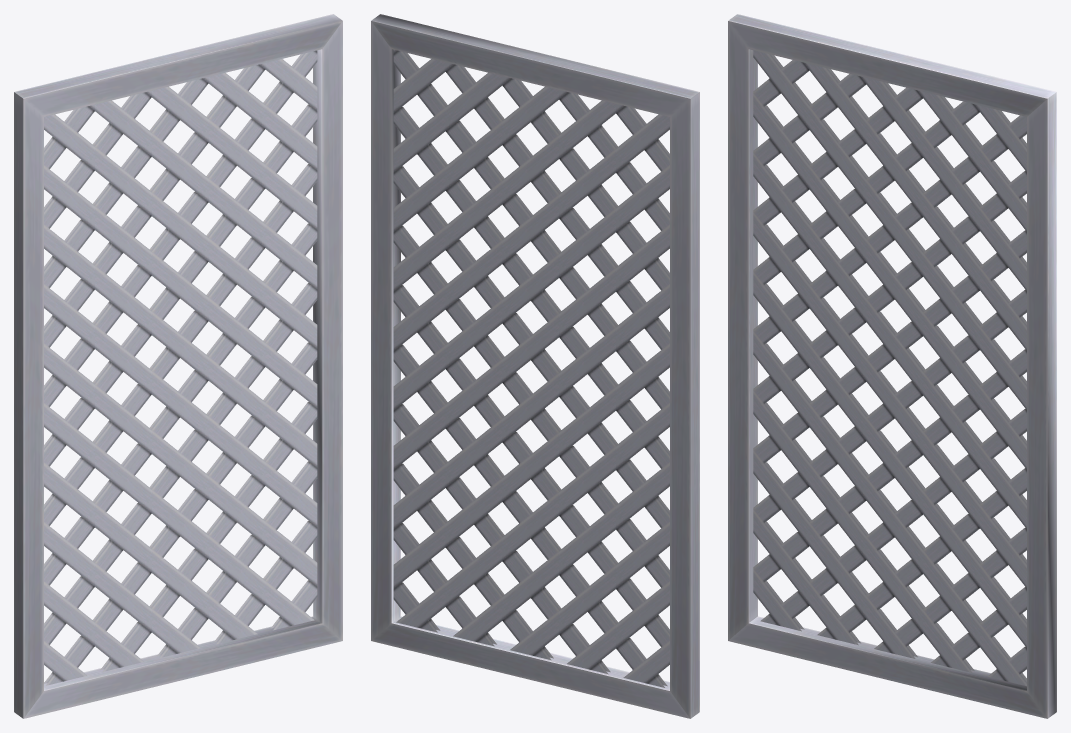
File: INST_HTOWN_LATTICE.fbx
3 views of the same model, side by side, from view 1: azimuth 30°, elevation 25°; view 2: azimuth 150°, elevation 25°; view 3: azimuth 330°, elevation 25° (orthographic).
Visible parts, largest first — view 1: INST_HTOWN_LATTICE; view 2: INST_HTOWN_LATTICE; view 3: INST_HTOWN_LATTICE.
Part boxes in pixels (left/top/right/bottom): INST_HTOWN_LATTICE: left=14, top=14, right=342, bottom=718; INST_HTOWN_LATTICE: left=371, top=14, right=699, bottom=718; INST_HTOWN_LATTICE: left=728, top=14, right=1056, bottom=718.
Size of the model in its own units: 8739 by 16209 by 444.
2 materials, 2 textured.
